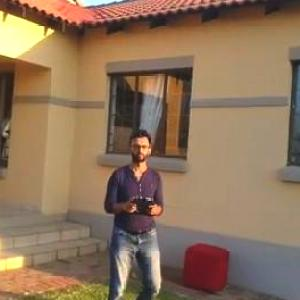follow: (106, 126, 180, 299)
